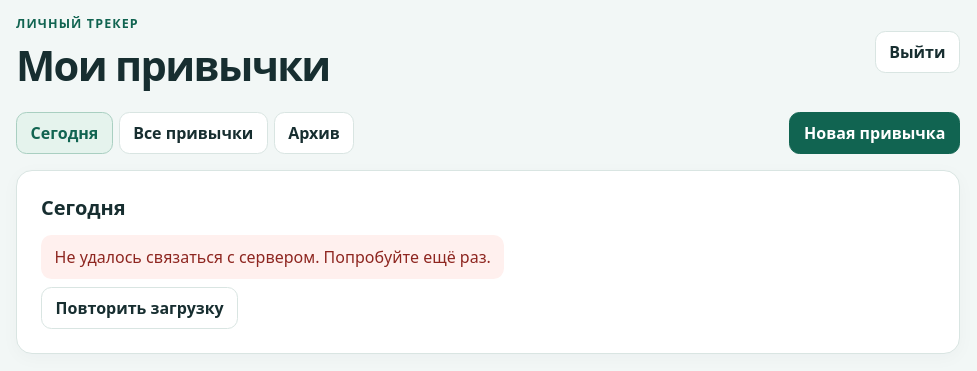
Test: Привычки › показывает пустой список отдельно от ошибки и позволяет повторить загрузку
This screenshot has width=977, height=371.
Expected: the message shows "Не удалось связаться с сервером", [55,246,491,268]
Click the button "Повторить загрузку" at (140, 308), box [41,288,238,330]
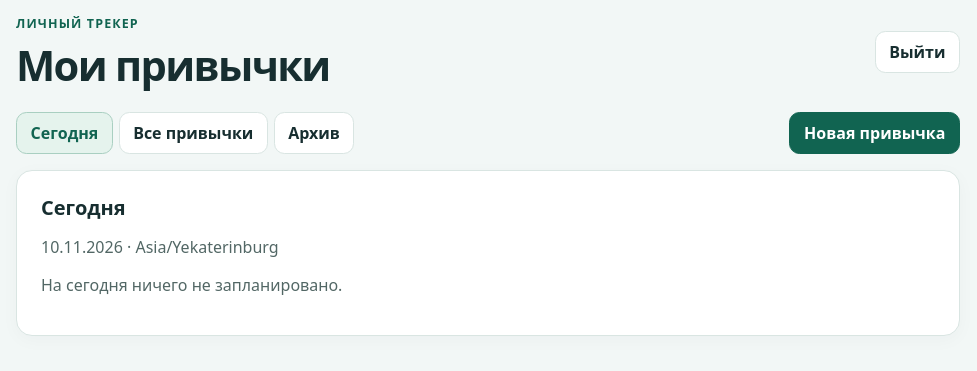
Expected: the text "На сегодня ничего не запланировано." is shown, [41,274,342,296]
Expected: the message "Не удалось связаться с сервером. Попробуйте ещё раз." is gone
